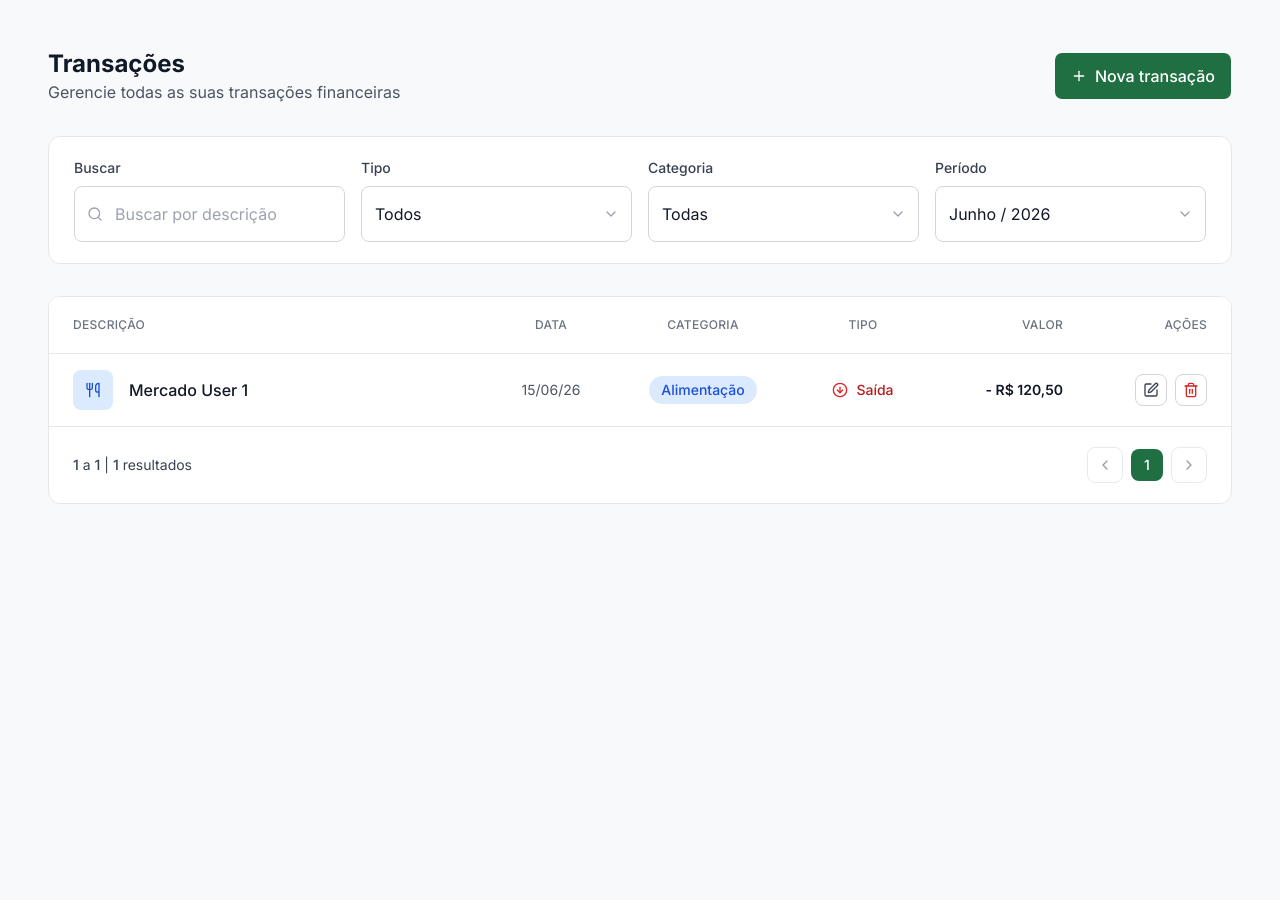
Test: Transactions page › abre dialog de criacao ao clicar Nova transacao
This screenshot has width=1280, height=900.
Expected: the text "Mercado User 1" is shown, top-left (129, 378), bottom-right (248, 402)
Expected: the field labelled "Buscar" is shown, top-left (74, 186), bottom-right (345, 242)
Click the button "Nova transação": (1143, 76) top-left (1054, 52), bottom-right (1232, 100)
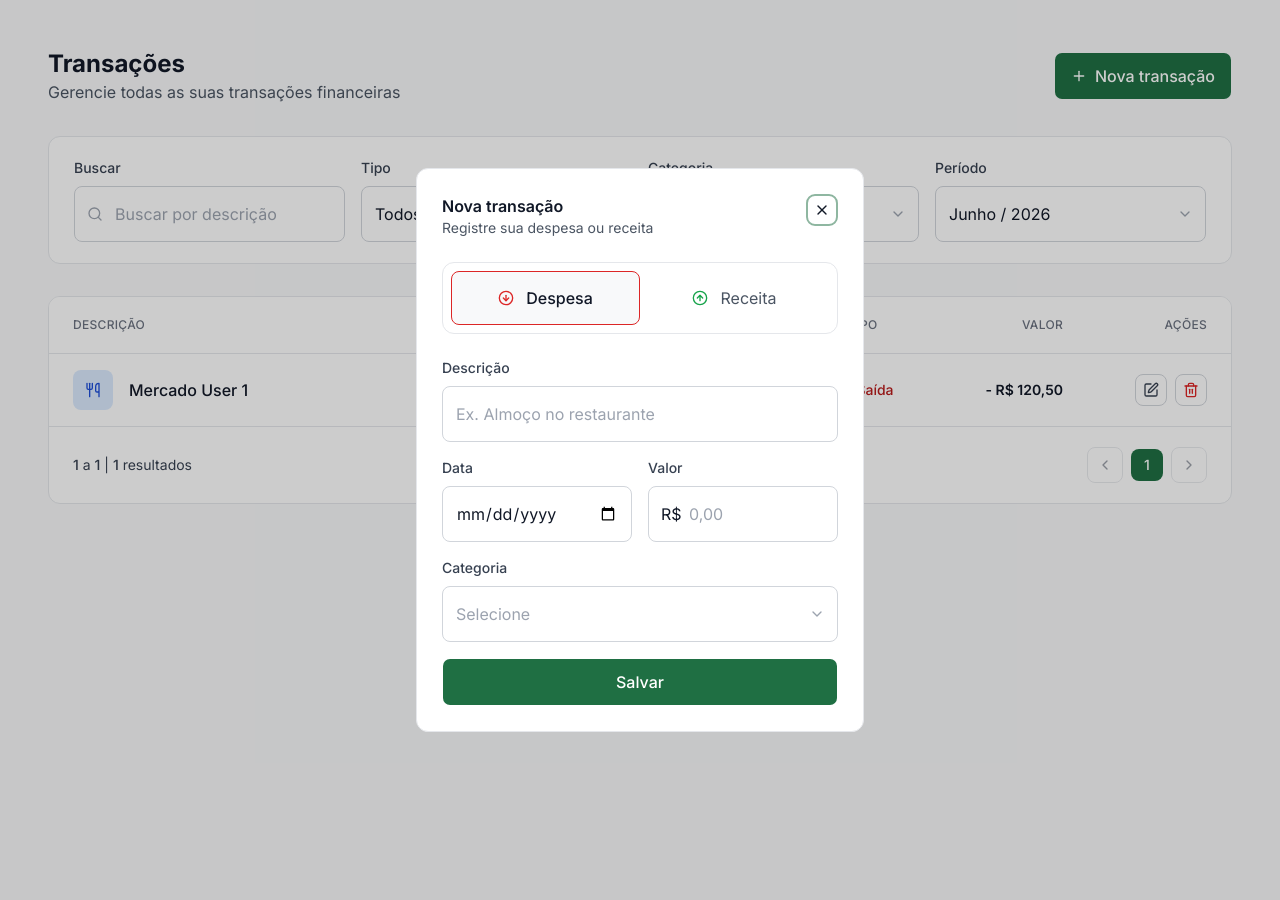
Expected: the heading "Nova transação" is shown, top-left (442, 196), bottom-right (563, 216)
